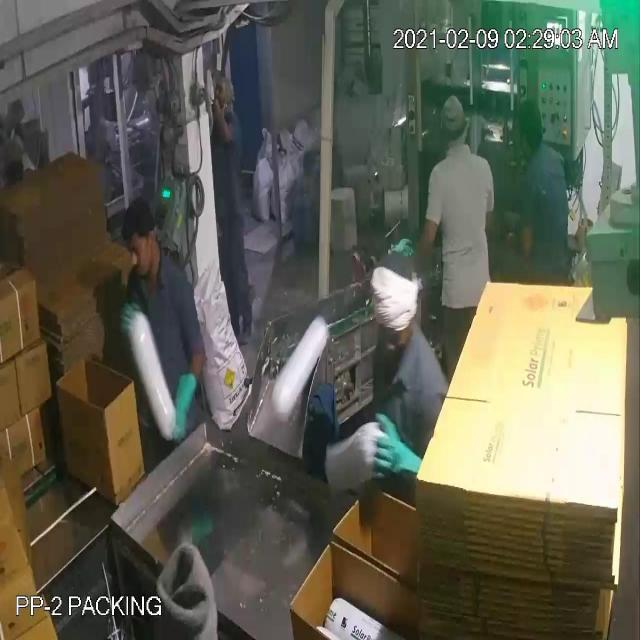Gloves: (28, 38, 424, 458)
